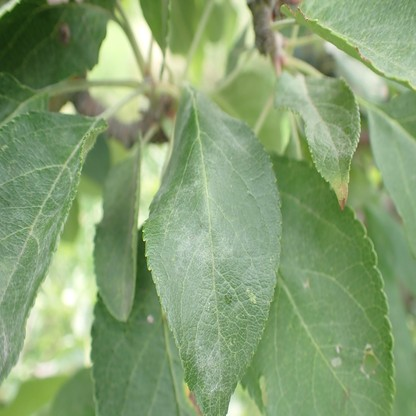frogeye: (147, 315, 154, 323)
powder: (0, 113, 108, 380), (292, 1, 416, 89), (276, 68, 361, 161), (162, 185, 234, 265), (197, 92, 250, 156), (155, 139, 191, 202), (194, 343, 227, 395), (176, 95, 194, 148), (192, 150, 215, 186)
